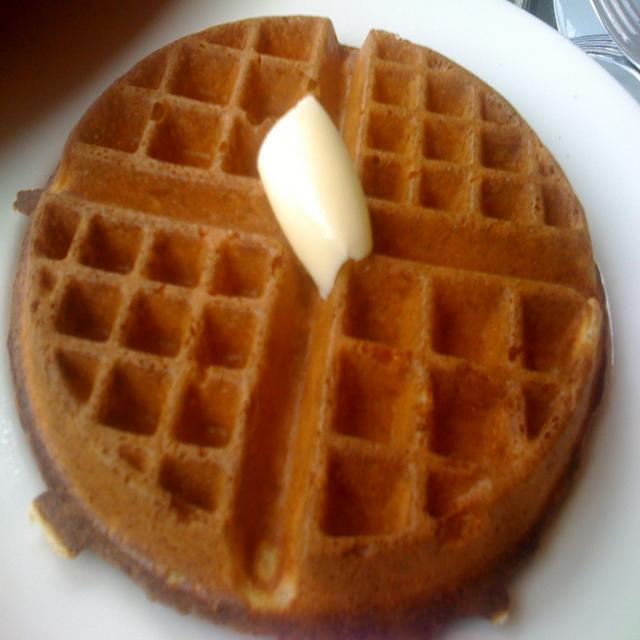Waffle: (6, 18, 608, 640)
